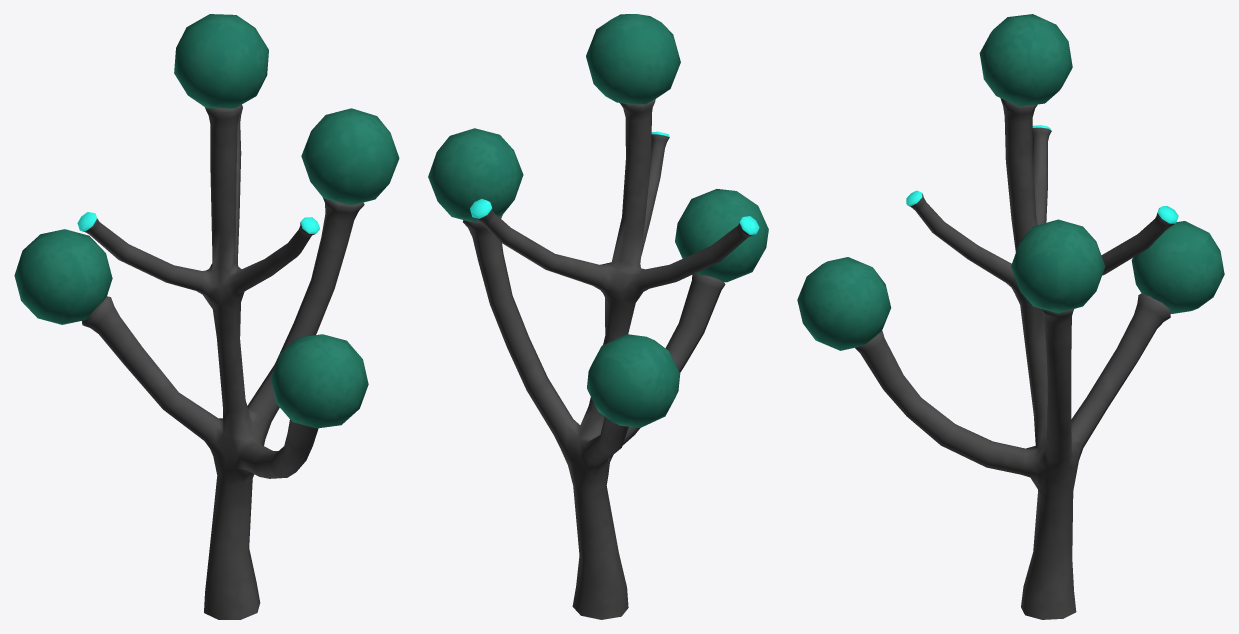
Rendered from LargeGlowingBerry2.fbx.
The picture shows the model from 3 angles, left to right: view 1: azimuth 30°, elevation 25°; view 2: azimuth 150°, elevation 25°; view 3: azimuth 270°, elevation 25°; orthographic projection. The views are drawn at different scales.
Parts seen in each view (by area): view 1: LargeGlowingBerry2; view 2: LargeGlowingBerry2; view 3: LargeGlowingBerry2.
Part boxes in pixels (x1=…): LargeGlowingBerry2: x1=14, y1=14, x2=399, y2=619; LargeGlowingBerry2: x1=428, y1=14, x2=768, y2=619; LargeGlowingBerry2: x1=797, y1=14, x2=1224, y2=619.
Size of the model in its own units: 137 by 246 by 163.
2 materials, 2 textured.
